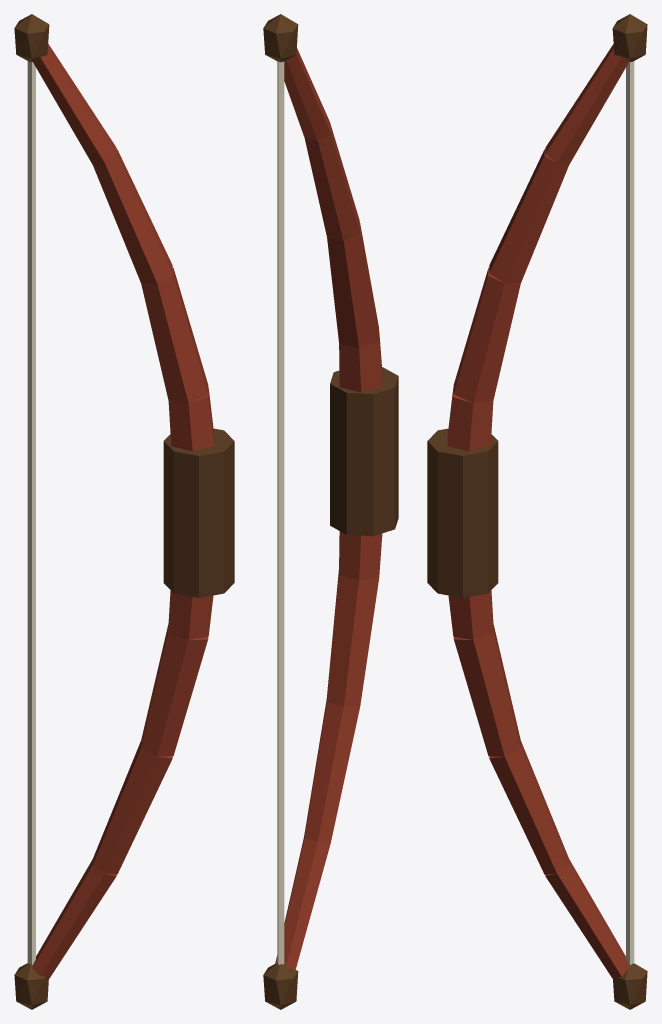
Rendered from held_yew_shortbow.glb.
3 renders of one model, left to right at view 1: azimuth 90°, elevation 25°; view 2: azimuth 150°, elevation 25°; view 3: azimuth 270°, elevation 25°, orthographic.
Parts seen in each view (by area): view 1: held_yew_shortbow; view 2: held_yew_shortbow; view 3: held_yew_shortbow.
Boxes of the visible parts, bbox=[...] form: held_yew_shortbow: bbox=[14, 14, 234, 1009]; held_yew_shortbow: bbox=[263, 14, 398, 1009]; held_yew_shortbow: bbox=[427, 14, 647, 1009].
Bounding box in the file's own units: 0.068 × 1.05 × 0.2107.
